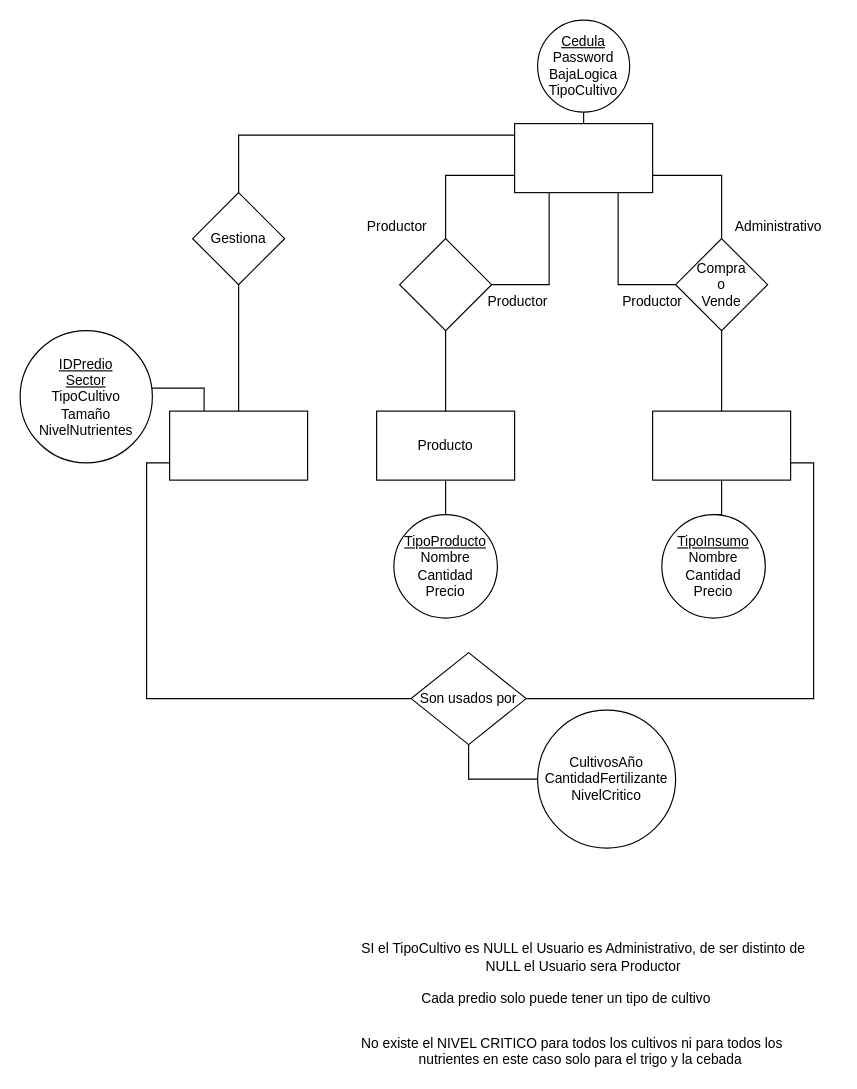
Some shapes in this 857 by 1089 pixel diagram are drawn without their labels. Here are the shapes that lost their labels. From the top down, the box of each, then its label:
(513, 122, 653, 193): Usuario
(398, 237, 492, 331): Compra y Vende
(168, 410, 308, 480): Predios
(651, 410, 791, 480): Insumo
